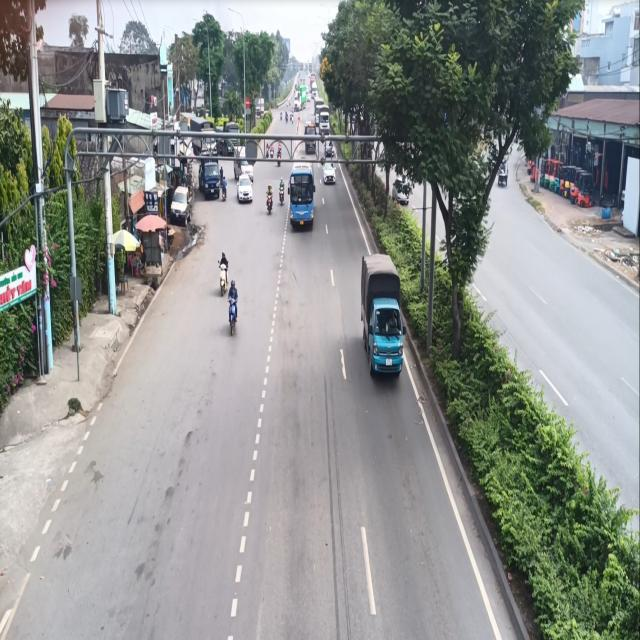bus: (288, 157, 318, 241)
car: (235, 170, 254, 210)
motorbike: (225, 278, 242, 339), (216, 251, 230, 298), (264, 181, 275, 214)
truck: (357, 252, 408, 386)
